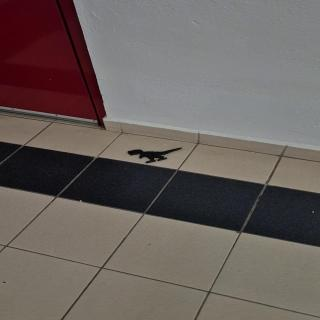dino: (128, 147, 182, 164)
